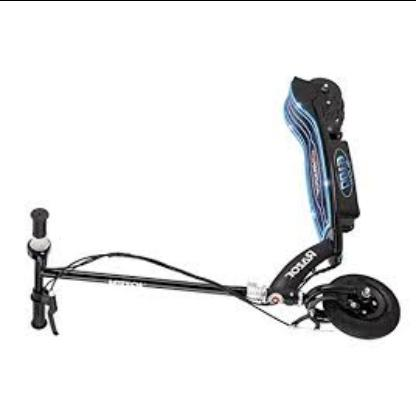bike: (15, 73, 401, 342)
